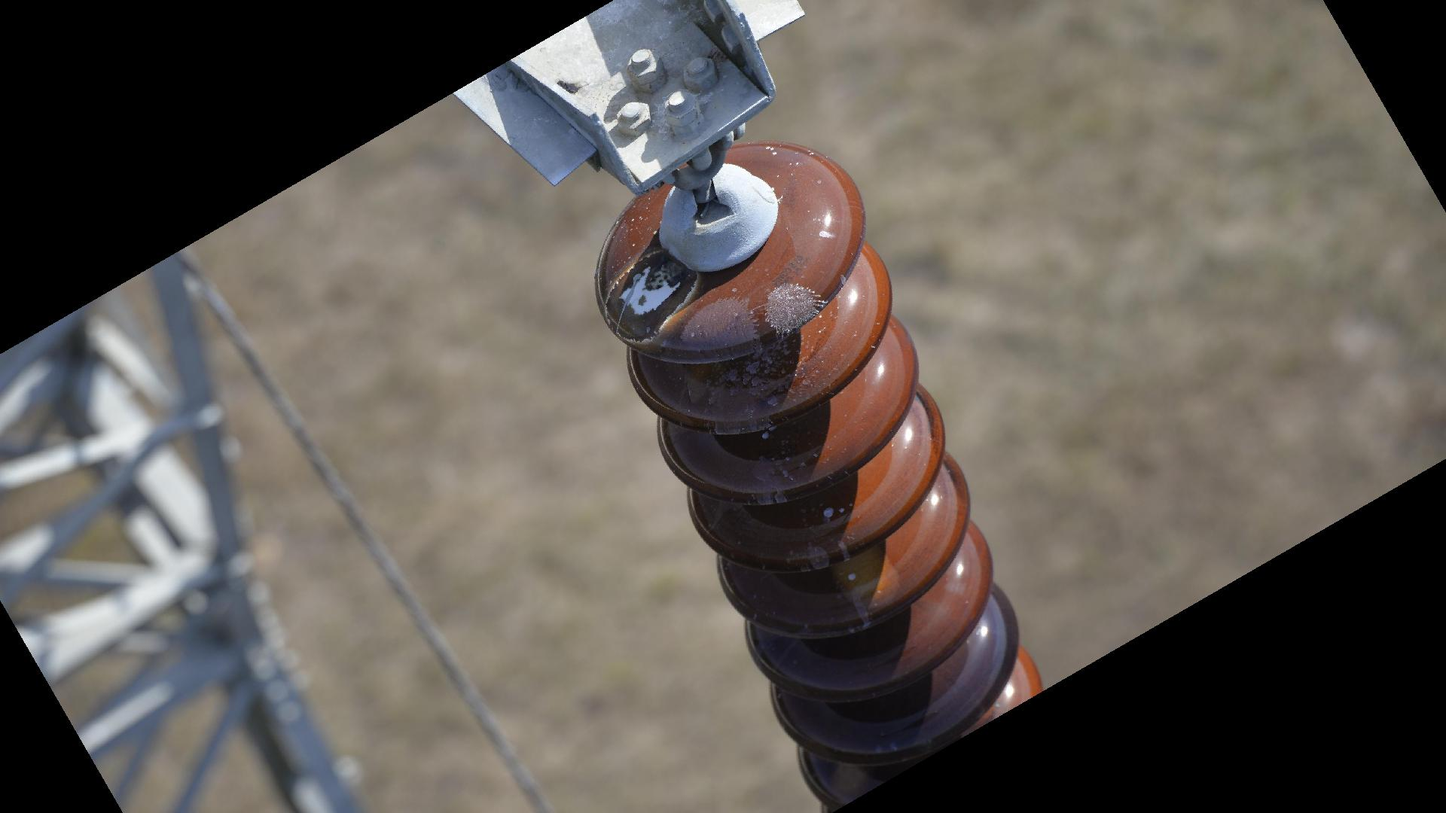insulator: (587, 132, 1051, 813)
insulator_flashover: (595, 239, 698, 348)
